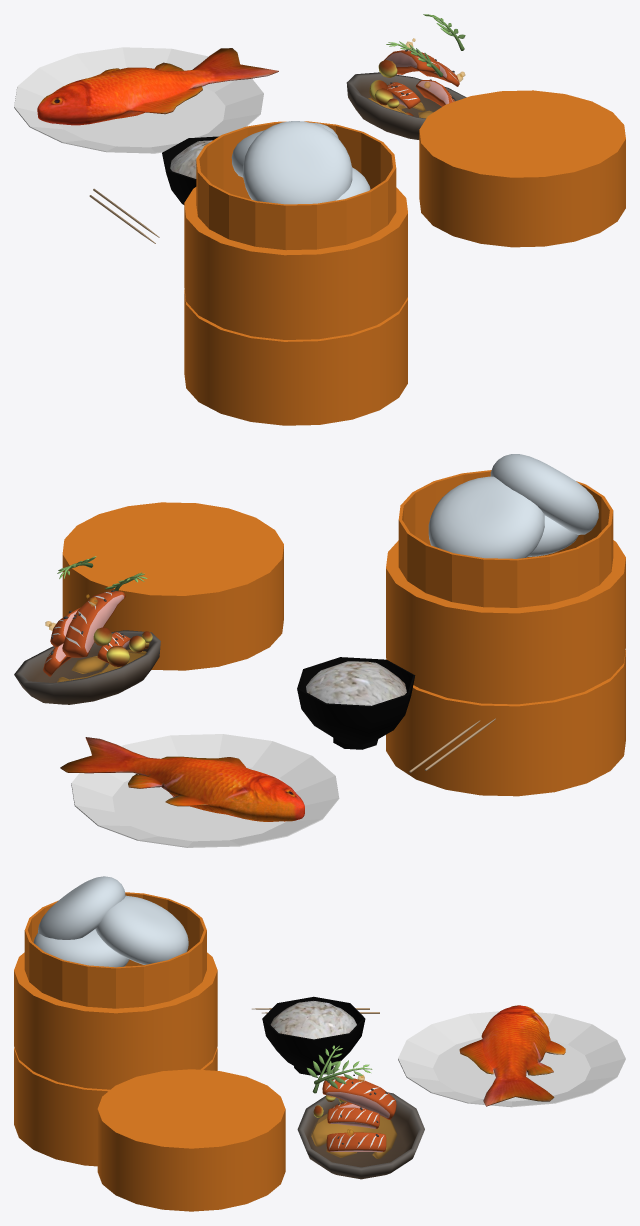
Rendered from nianyefan2.glb.
3 views of the same model, one above another, from view 1: azimuth 30°, elevation 25°; view 2: azimuth 150°, elevation 25°; view 3: azimuth 270°, elevation 25° (orthographic). The views are drawn at different scales.
Visible parts, largest first — view 1: contaner_container1_0, cover_container1_0, Plate_0, Object_2, Sphere.002, Cylinder.018_FryingPan_0, Cylinder.018_Salmon_Base_0, Mesh_0.001, Cylinder.018_Potato_0, Mesh_2.001, Cylinder.018_Salmon_Tender_0, Cylinder.018_Herbs_0 (+1 smaller); view 2: contaner_container1_0, cover_container1_0, Plate_0, Object_2, Sphere.001, Cylinder.018_FryingPan_0, Mesh_0.001, Sphere.002, Mesh_2.001, Cylinder.018_Salmon_Base_0, Cylinder.018_Potato_0, Sphere (+2 smaller); view 3: contaner_container1_0, cover_container1_0, Plate_0, Object_2, Cylinder.018_FryingPan_0, Sphere.001, Sphere.002, Mesh_0.001, Cylinder.018_Salmon_Base_0, Mesh_2.001, Sphere, Cylinder.018_Oil_0 (+2 smaller).
Part boxes in pixels (x1=…): contaner_container1_0: x1=184, y1=121, x2=407, y2=425; cover_container1_0: x1=419, y1=90, x2=625, y2=247; Plate_0: x1=14, y1=47, x2=263, y2=153; Object_2: x1=37, y1=48, x2=278, y2=125; Sphere.002: x1=243, y1=121, x2=352, y2=204; Cylinder.018_FryingPan_0: x1=346, y1=72, x2=466, y2=139; Cylinder.018_Salmon_Base_0: x1=384, y1=50, x2=459, y2=108; Mesh_0.001: x1=162, y1=136, x2=218, y2=204; Cylinder.018_Potato_0: x1=369, y1=60, x2=413, y2=116; Mesh_2.001: x1=170, y1=140, x2=212, y2=178; Cylinder.018_Salmon_Tender_0: x1=385, y1=52, x2=449, y2=107; Cylinder.018_Herbs_0: x1=386, y1=14, x2=465, y2=76; contaner_container1_0: x1=386, y1=470, x2=625, y2=796; cover_container1_0: x1=62, y1=502, x2=283, y2=670; Plate_0: x1=71, y1=734, x2=339, y2=847; Object_2: x1=60, y1=737, x2=304, y2=821; Sphere.001: x1=428, y1=476, x2=544, y2=558; Cylinder.018_FryingPan_0: x1=14, y1=630, x2=160, y2=704; Mesh_0.001: x1=297, y1=657, x2=415, y2=749; Sphere.002: x1=490, y1=454, x2=598, y2=534; Mesh_2.001: x1=306, y1=661, x2=406, y2=705; Cylinder.018_Salmon_Base_0: x1=43, y1=591, x2=130, y2=676; Cylinder.018_Potato_0: x1=93, y1=627, x2=152, y2=666; Sphere: x1=528, y1=515, x2=578, y2=556; contaner_container1_0: x1=14, y1=892, x2=217, y2=1166; cover_container1_0: x1=97, y1=1069, x2=285, y2=1211; Plate_0: x1=398, y1=1011, x2=625, y2=1107; Object_2: x1=459, y1=1005, x2=565, y2=1106; Cylinder.018_FryingPan_0: x1=297, y1=1092, x2=424, y2=1179; Sphere.001: x1=95, y1=895, x2=188, y2=964; Sphere.002: x1=38, y1=876, x2=125, y2=939; Mesh_0.001: x1=262, y1=996, x2=365, y2=1075; Cylinder.018_Salmon_Base_0: x1=322, y1=1076, x2=396, y2=1151; Mesh_2.001: x1=270, y1=1001, x2=356, y2=1039; Sphere: x1=33, y1=929, x2=129, y2=967; Cylinder.018_Oil_0: x1=311, y1=1075, x2=397, y2=1158.
Size of the model in its own units: 9.53 by 5.26 by 12.25.
Materials: 15 (5 with a texture image).
